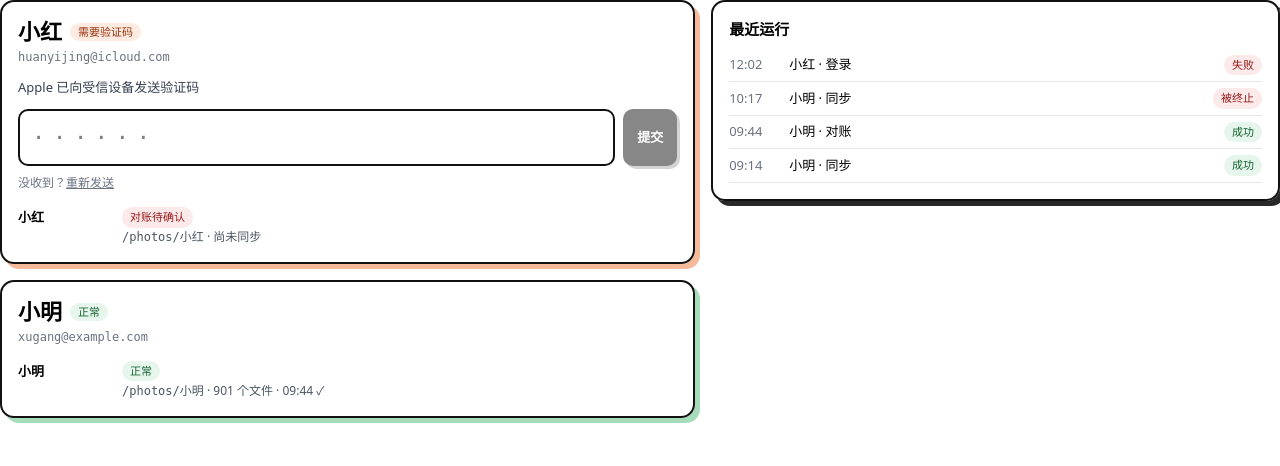
Test: AccountCard 2FA flow › a 400 'auth session already active' from 重新发送 reads as a hint, not the raw detail
Click the button "重新发送": (90, 183) [66,174,114,192]
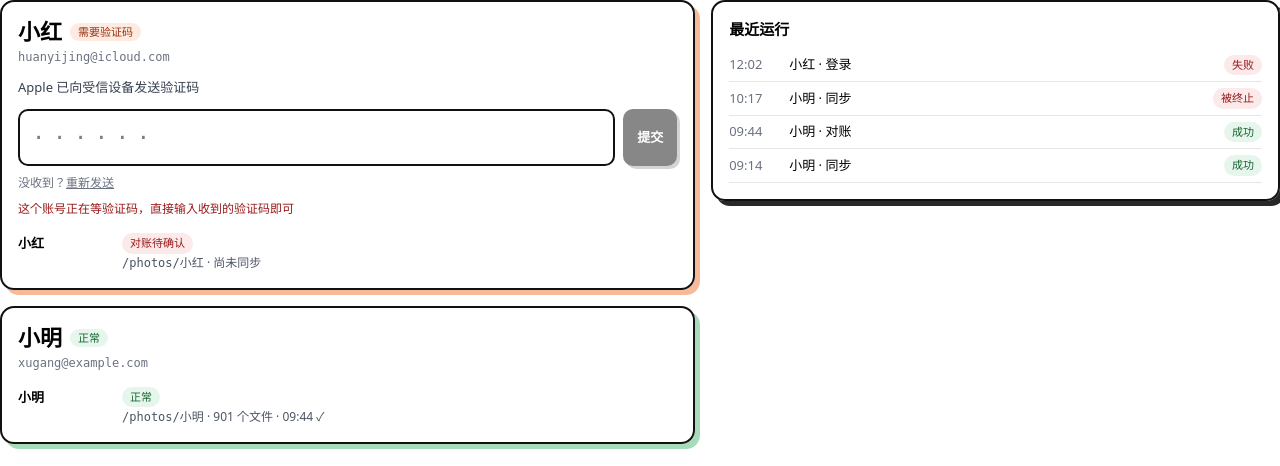
Expected: the message shows "这个账号正在等验证码", [18,200,294,217]
